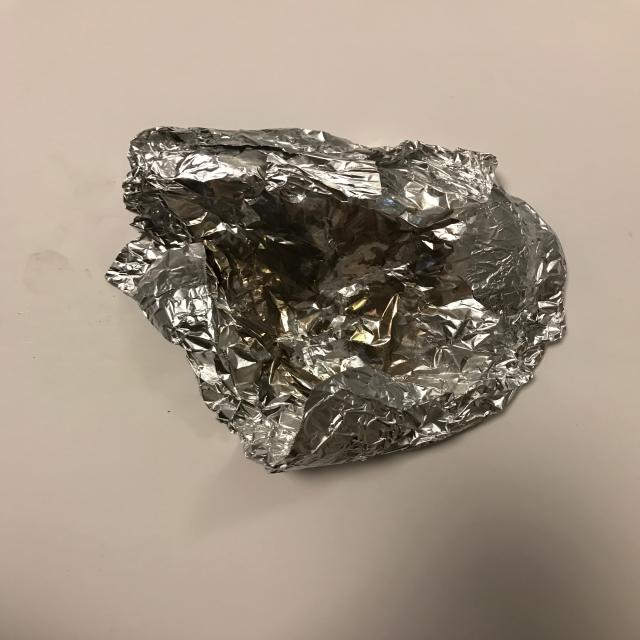metal: (105, 125, 568, 473)
